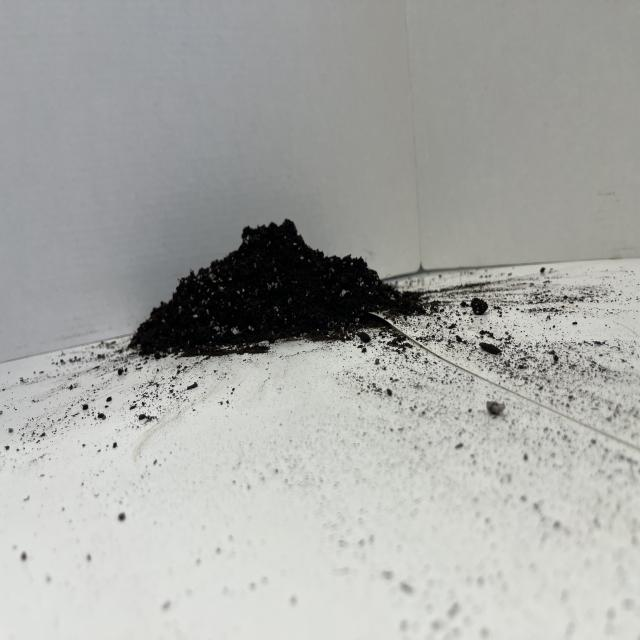soil: (126, 216, 428, 361)
